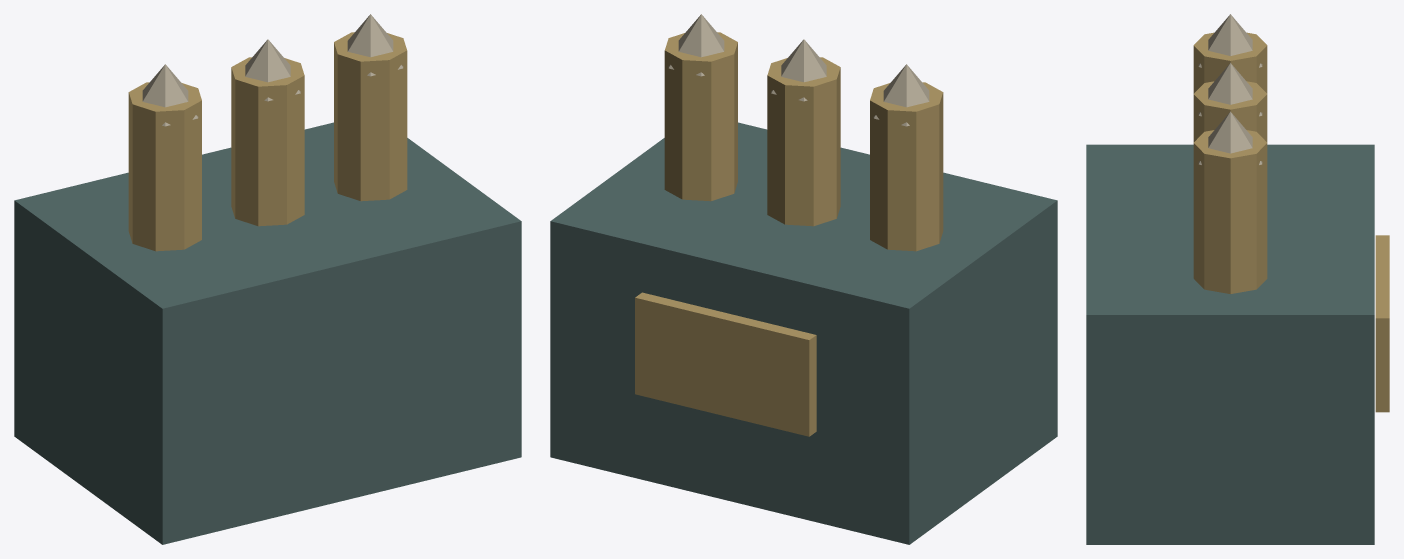
File: Equip_Ammunition.fbx
3 views of the same model, side by side, from view 1: azimuth 30°, elevation 25°; view 2: azimuth 150°, elevation 25°; view 3: azimuth 270°, elevation 25° (orthographic). The views are drawn at different scales.
Parts seen in each view (by area): view 1: Equip_Ammunition; view 2: Equip_Ammunition; view 3: Equip_Ammunition.
Part boxes in pixels (x1,y1,x2,y2): Equip_Ammunition: [14, 14, 521, 544]; Equip_Ammunition: [550, 14, 1057, 544]; Equip_Ammunition: [1086, 14, 1389, 544].
Size of the model in its own units: 0.35 by 0.38 by 0.263.
